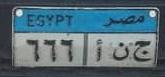6: (42, 37, 58, 64), (24, 37, 40, 64), (59, 38, 75, 63)
alif: (93, 38, 105, 64)
jeem: (132, 39, 153, 63)
noon: (111, 40, 130, 63)
